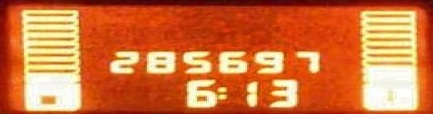1: (242, 80, 257, 107)
2: (107, 50, 138, 73)
3: (265, 78, 298, 107)
5: (178, 50, 210, 73)
6: (183, 78, 217, 107), (215, 50, 248, 73)
7: (293, 51, 320, 72)
8: (143, 50, 173, 73)
9: (251, 50, 283, 73)
X: (213, 86, 227, 99)
